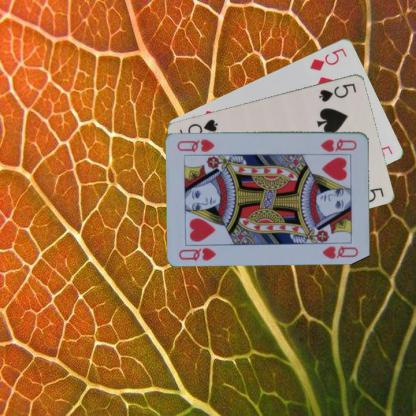5d: (308, 45, 348, 72)
5s: (316, 80, 358, 103)
Qh: (318, 135, 358, 153), (176, 245, 218, 262)
